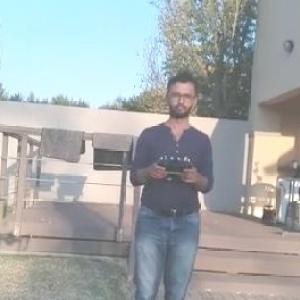follow: (121, 59, 218, 299)
